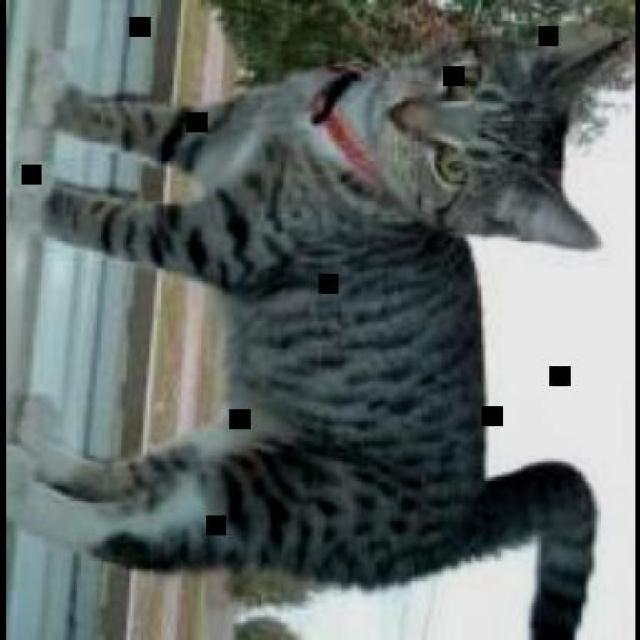unauthorized: (32, 7, 631, 638)
